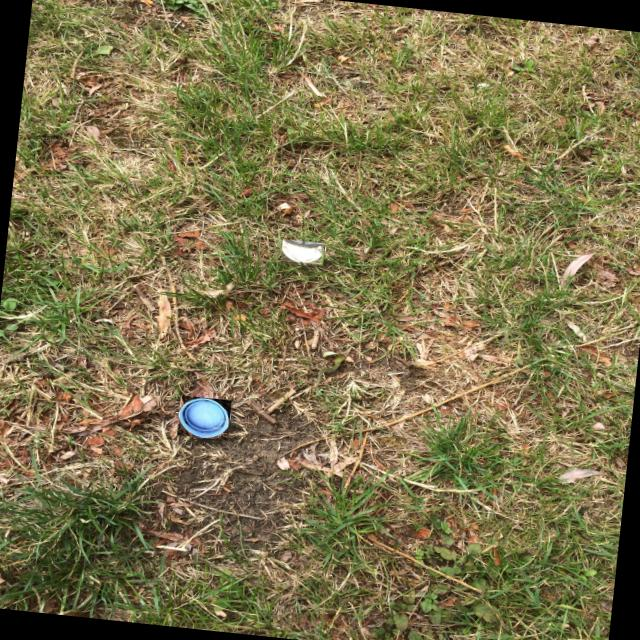Metal bottle cap: (282, 240, 324, 264)
Plastic bottle cap: (179, 397, 229, 438)
